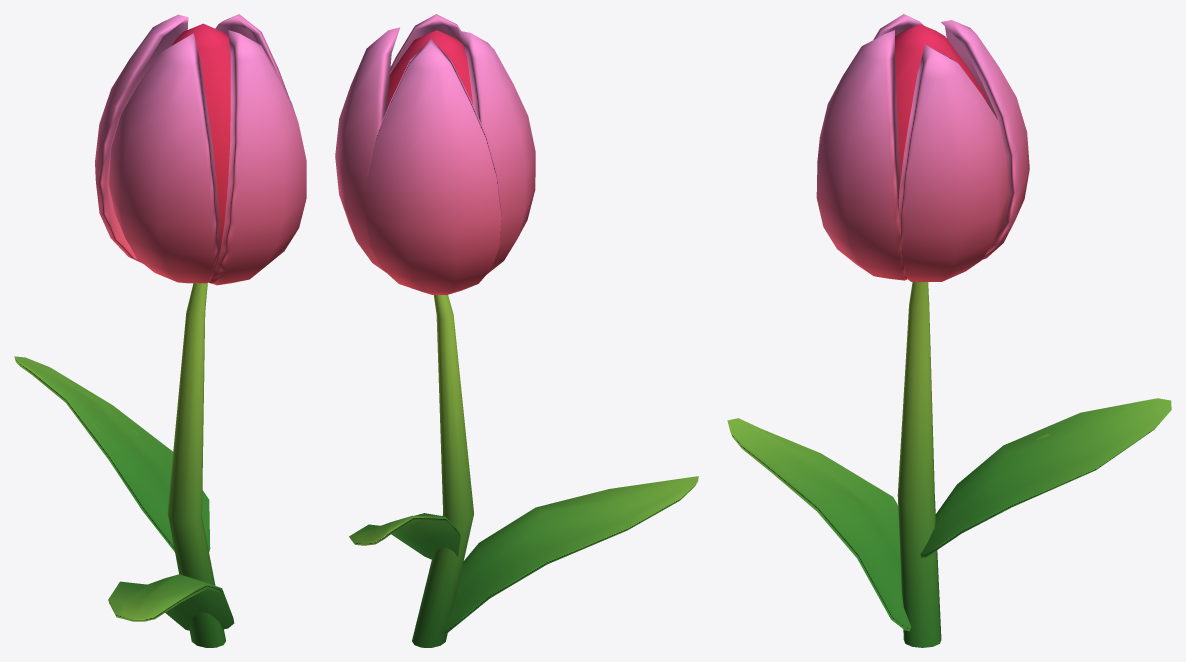
Rendered from flower_closed_03.fbx.
The picture shows the model from 3 angles, left to right: view 1: azimuth 30°, elevation 25°; view 2: azimuth 150°, elevation 25°; view 3: azimuth 270°, elevation 25°; orthographic projection.
Visible parts, largest first — view 1: bulb, closed_stem; view 2: bulb, closed_stem; view 3: bulb, closed_stem.
Boxes of the visible parts, x1,y1,x2,y2 form: bulb: (95,14,306,285); closed_stem: (14,283,234,647); bulb: (335,14,535,294); closed_stem: (349,295,698,647); bulb: (816,14,1029,281); closed_stem: (727,282,1171,647).
Bounding box in the file's own units: 0.8602 × 1.96 × 1.29.
